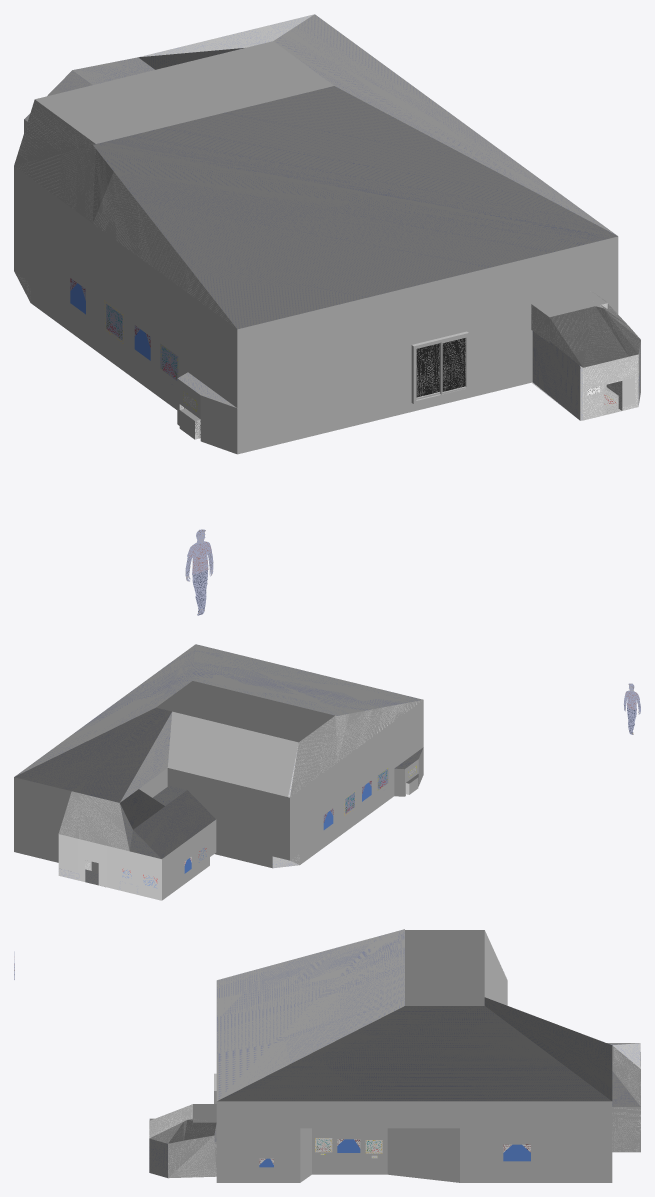
Rendered from varrock_bar.obj.
3 renders of one model, top to bottom at view 1: azimuth 30°, elevation 25°; view 2: azimuth 150°, elevation 25°; view 3: azimuth 270°, elevation 25°, orthographic. The views are drawn at different scales.
Size of the model in its own units: 12976 by 4864 by 18377.
